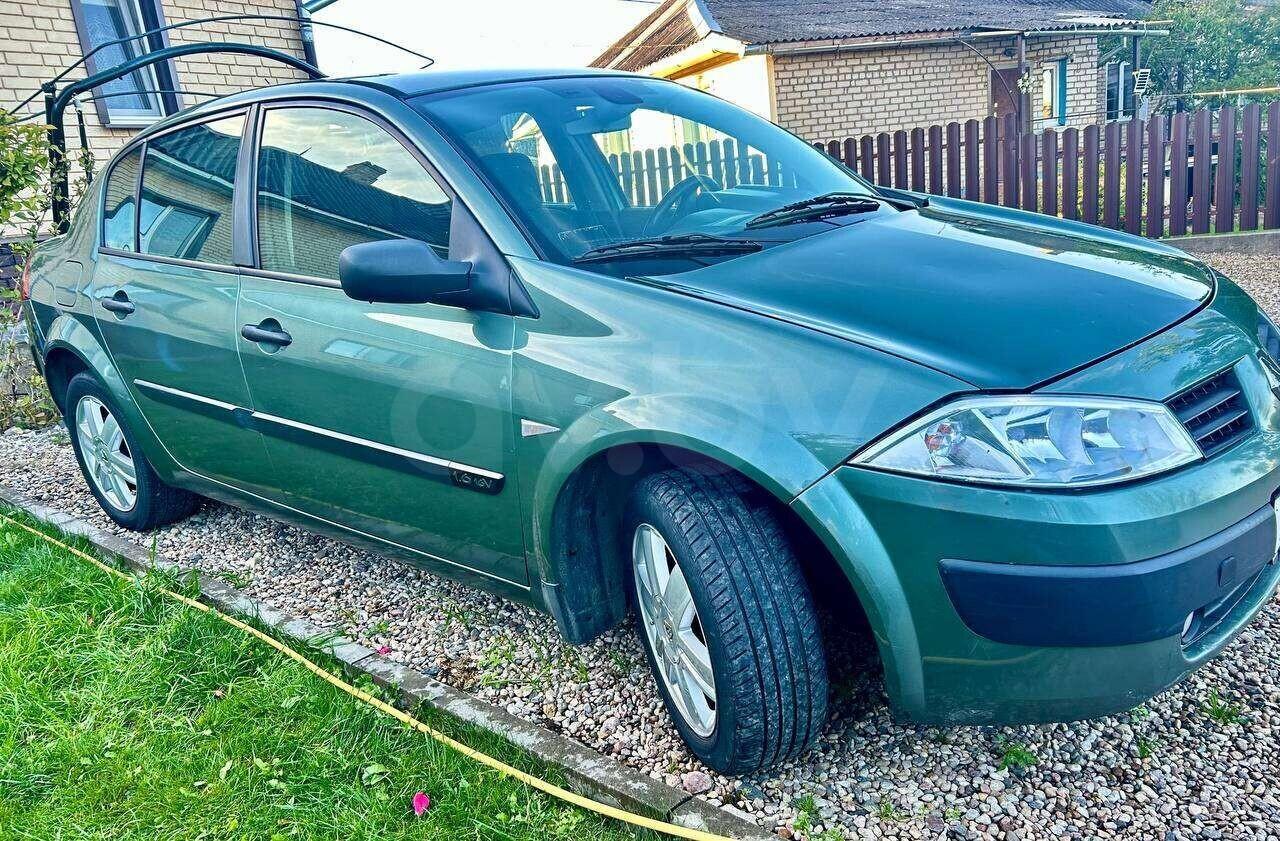Megane_2002-2006: (16, 62, 1280, 773)
